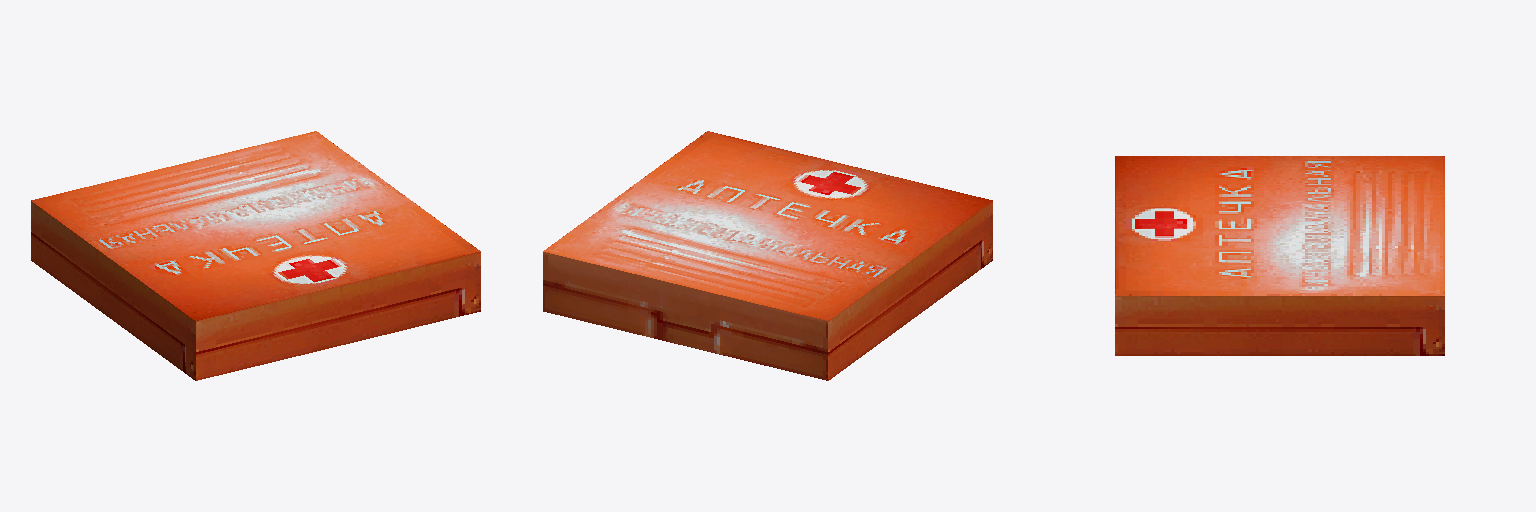
3 renders of one model, left to right at view 1: azimuth 30°, elevation 25°; view 2: azimuth 150°, elevation 25°; view 3: azimuth 270°, elevation 25°, orthographic.
Parts seen in each view (by area): view 1: Cube; view 2: Cube; view 3: Cube.
Boxes of the visible parts, x1,y1,x2,y2 form: Cube: [31, 131, 480, 380]; Cube: [543, 131, 992, 380]; Cube: [1115, 156, 1444, 355].
Size of the model in its own units: 2 by 0.4 by 2.
1 materials, 1 textured.